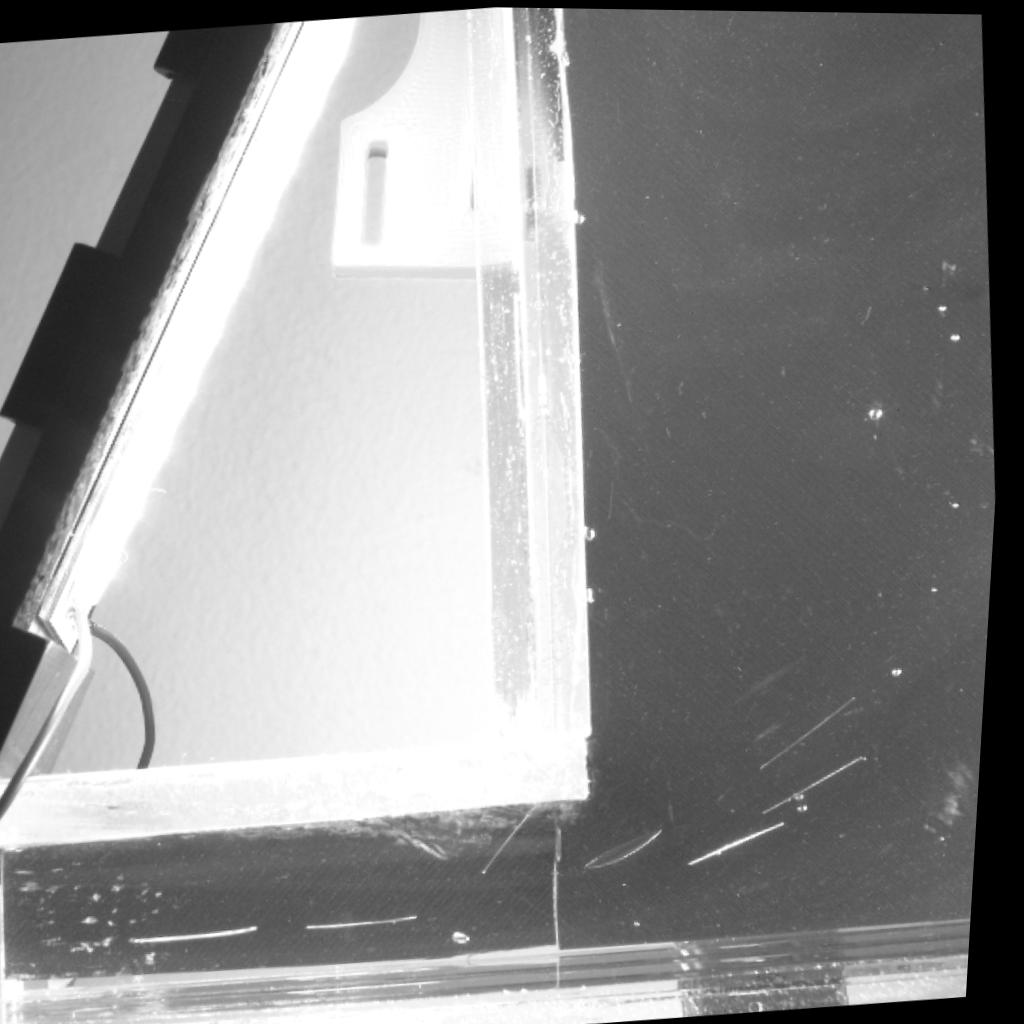Fiber: (768, 689, 865, 769), (773, 748, 874, 815), (488, 797, 558, 878), (697, 812, 793, 866), (136, 923, 267, 945), (314, 911, 434, 929)
